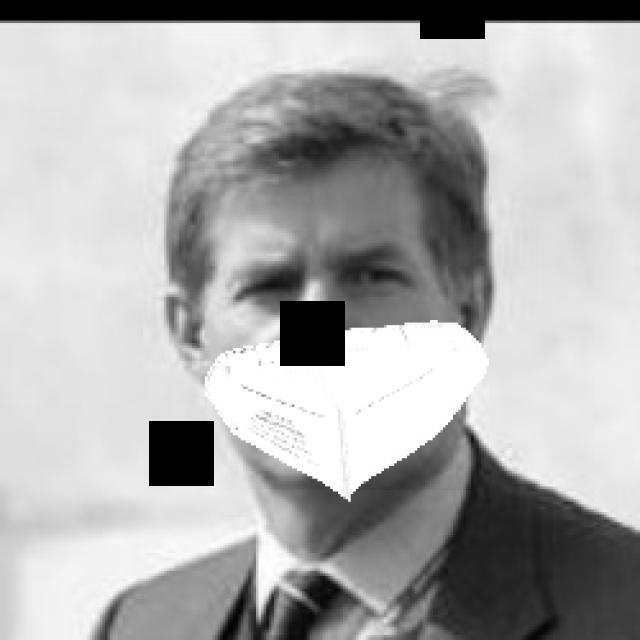kn95: (185, 154, 474, 490)
